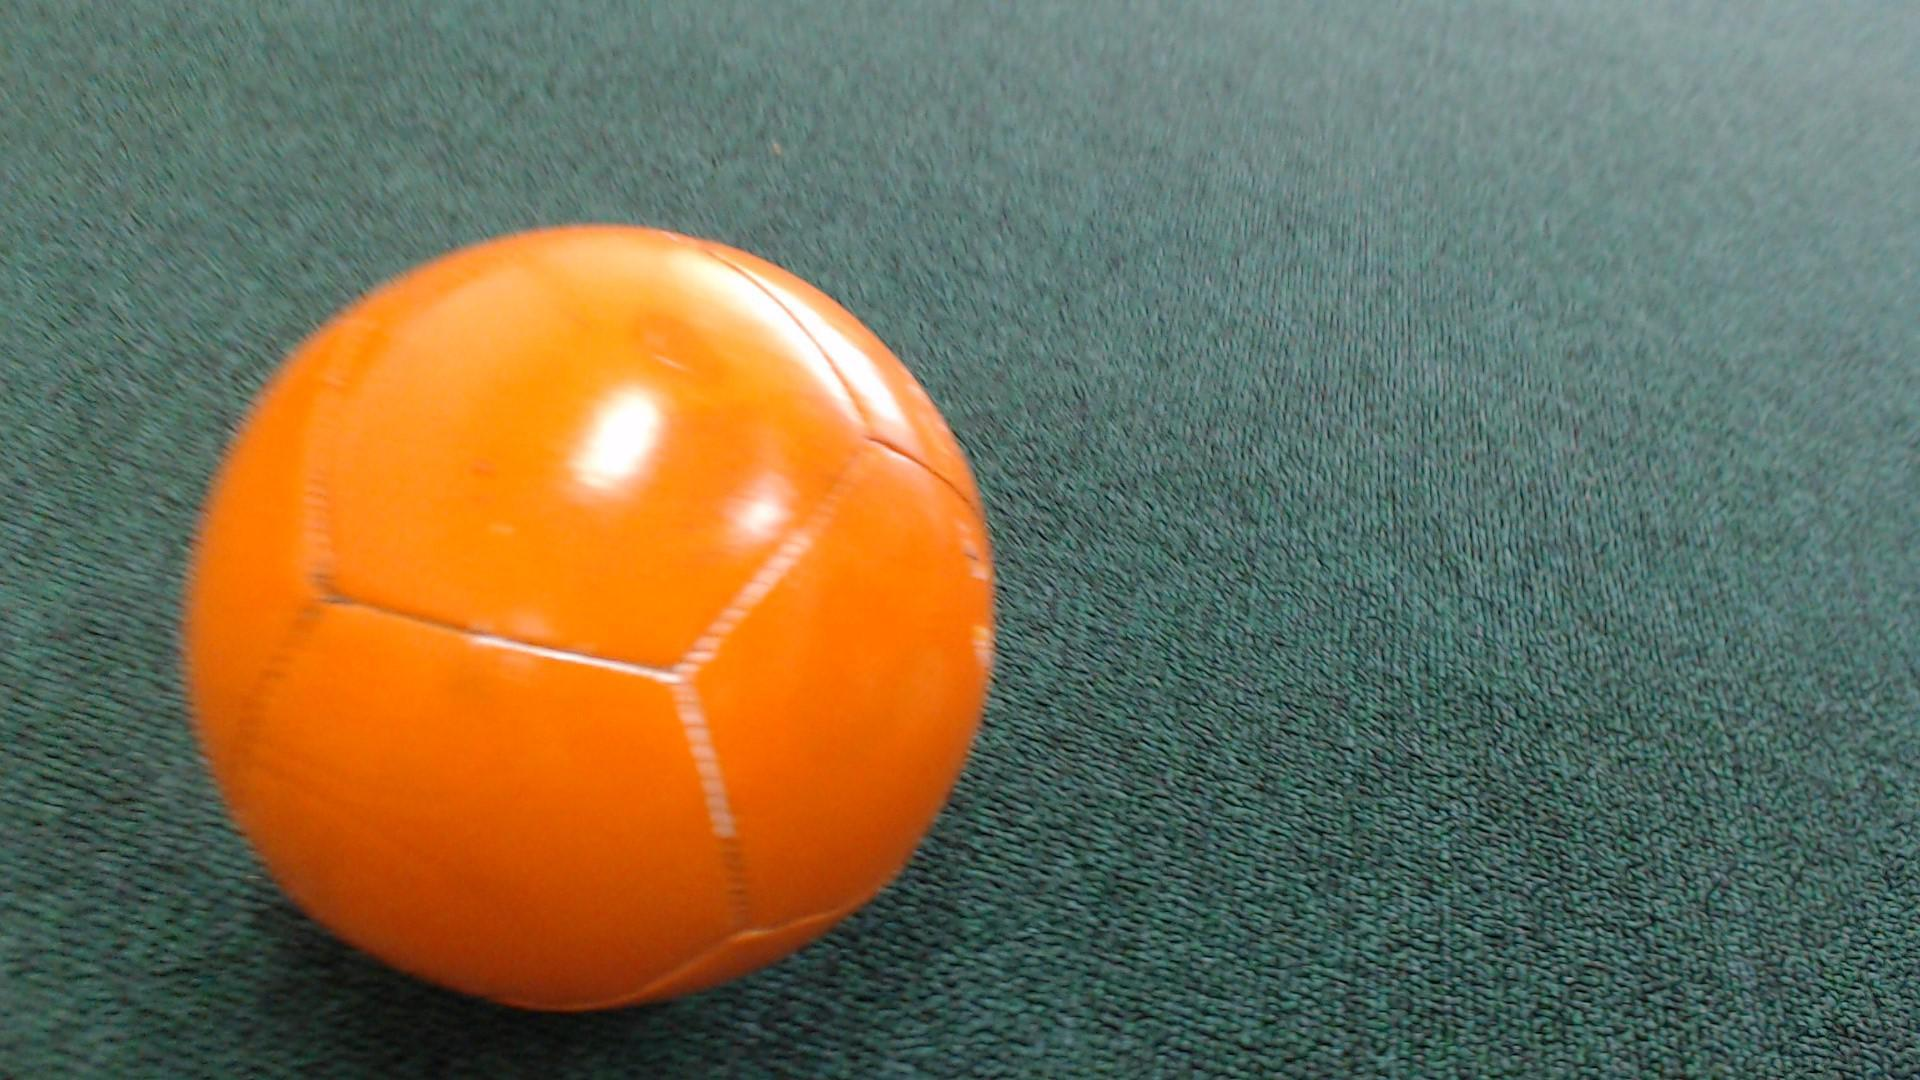bola: (128, 169, 1027, 1043)
